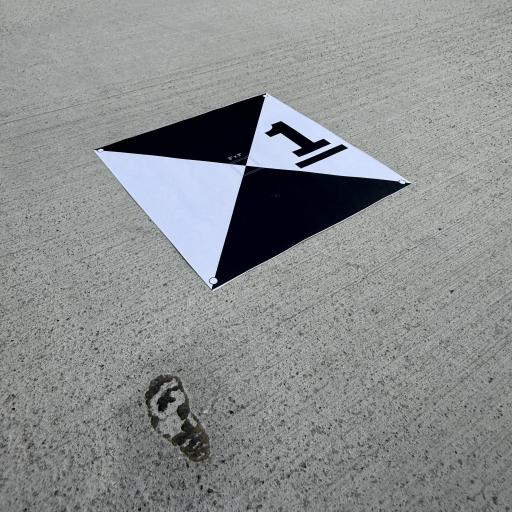target1: (93, 84, 422, 286)
